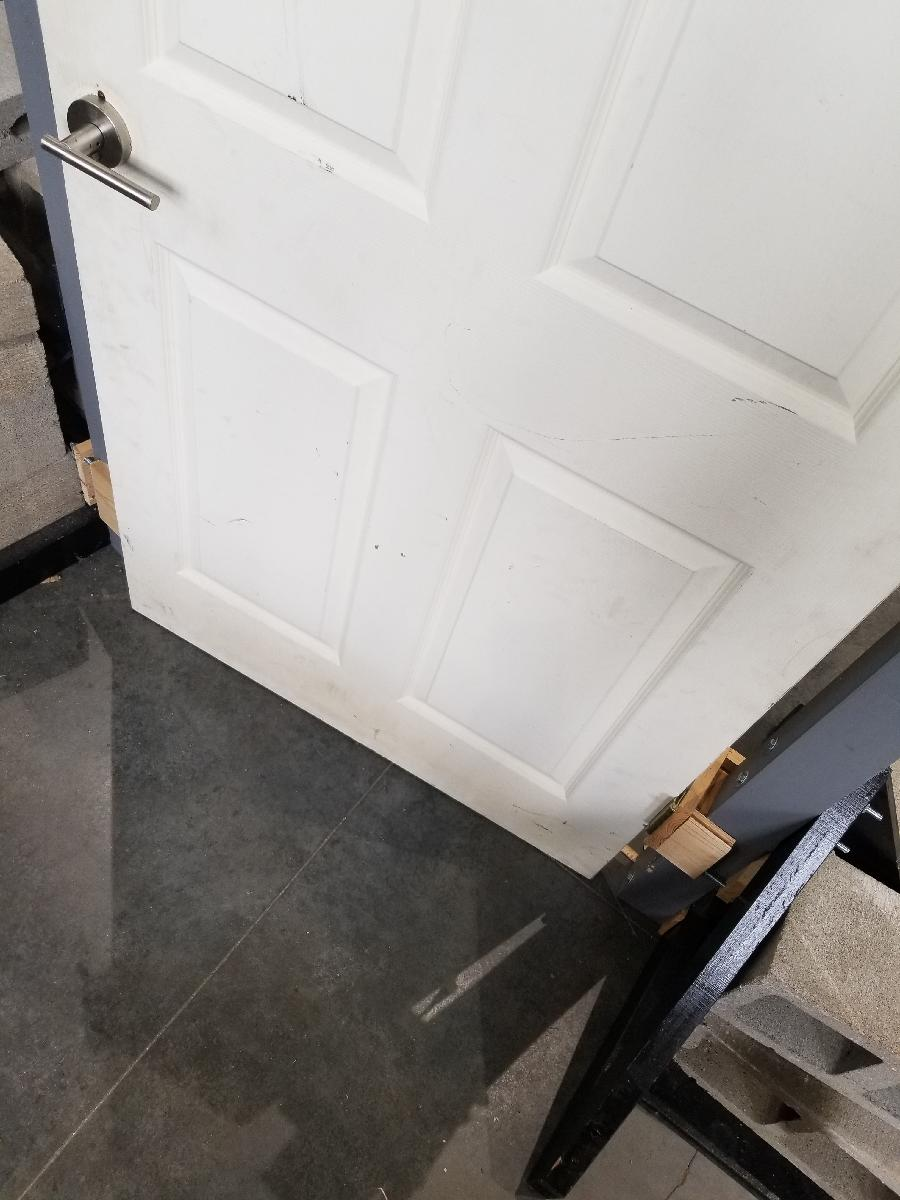doorHandle: (38, 87, 165, 216)
